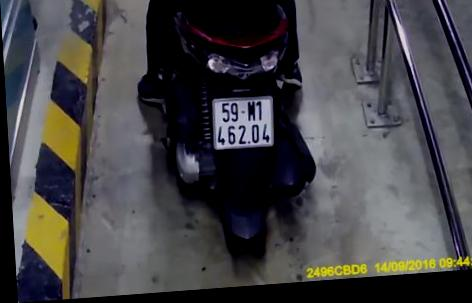License_Plate: (204, 91, 285, 162)
